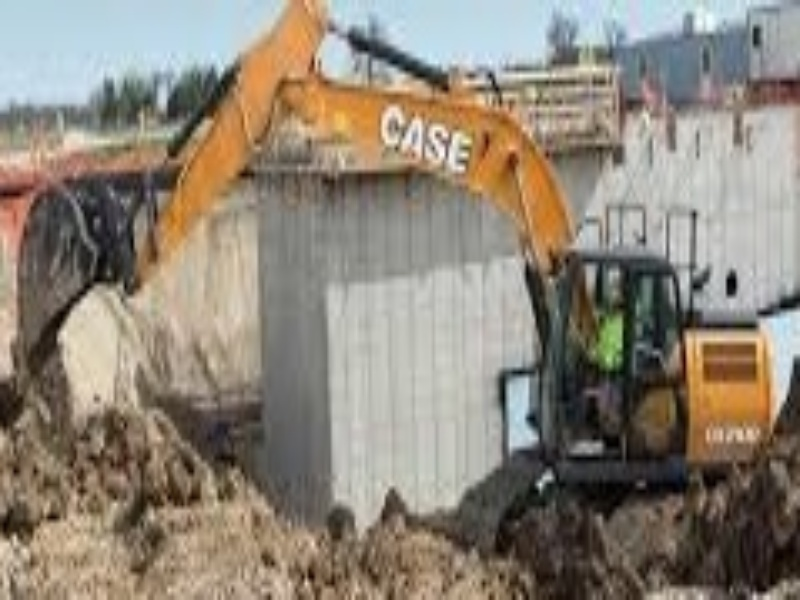wajueji: (438, 194, 794, 591)
